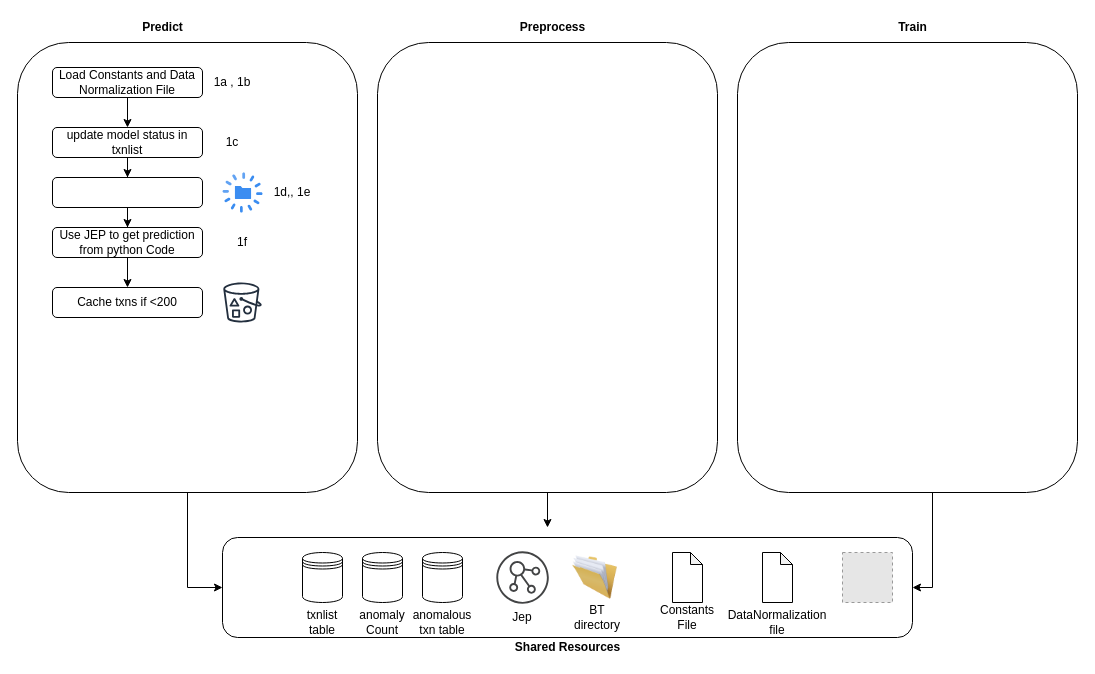
The diagram is 1095 pixels wide and 674 high, and some of its shapes have lost their labels. Grey dashed boxes stand in for pictures. The centre of each missing label's shape, as x and y in pixels:
Bucket with objects: [242,302]
de-serialize txnflow file: [127,192]
